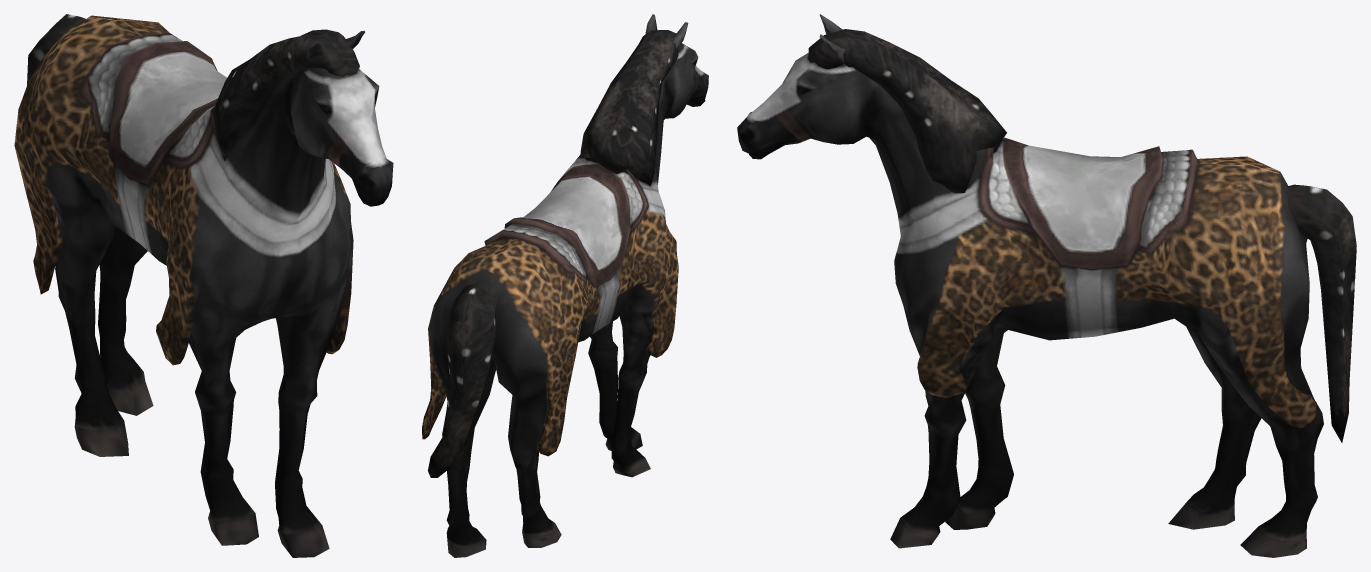
The model's file is body-championcavalry.glb.
3 views of the same model, side by side, from view 1: azimuth 30°, elevation 25°; view 2: azimuth 150°, elevation 25°; view 3: azimuth 270°, elevation 25° (orthographic). The views are drawn at different scales.
Bounding box in the file's own units: 0.822 × 2.52 × 2.77.
1 material, 1 textured.
